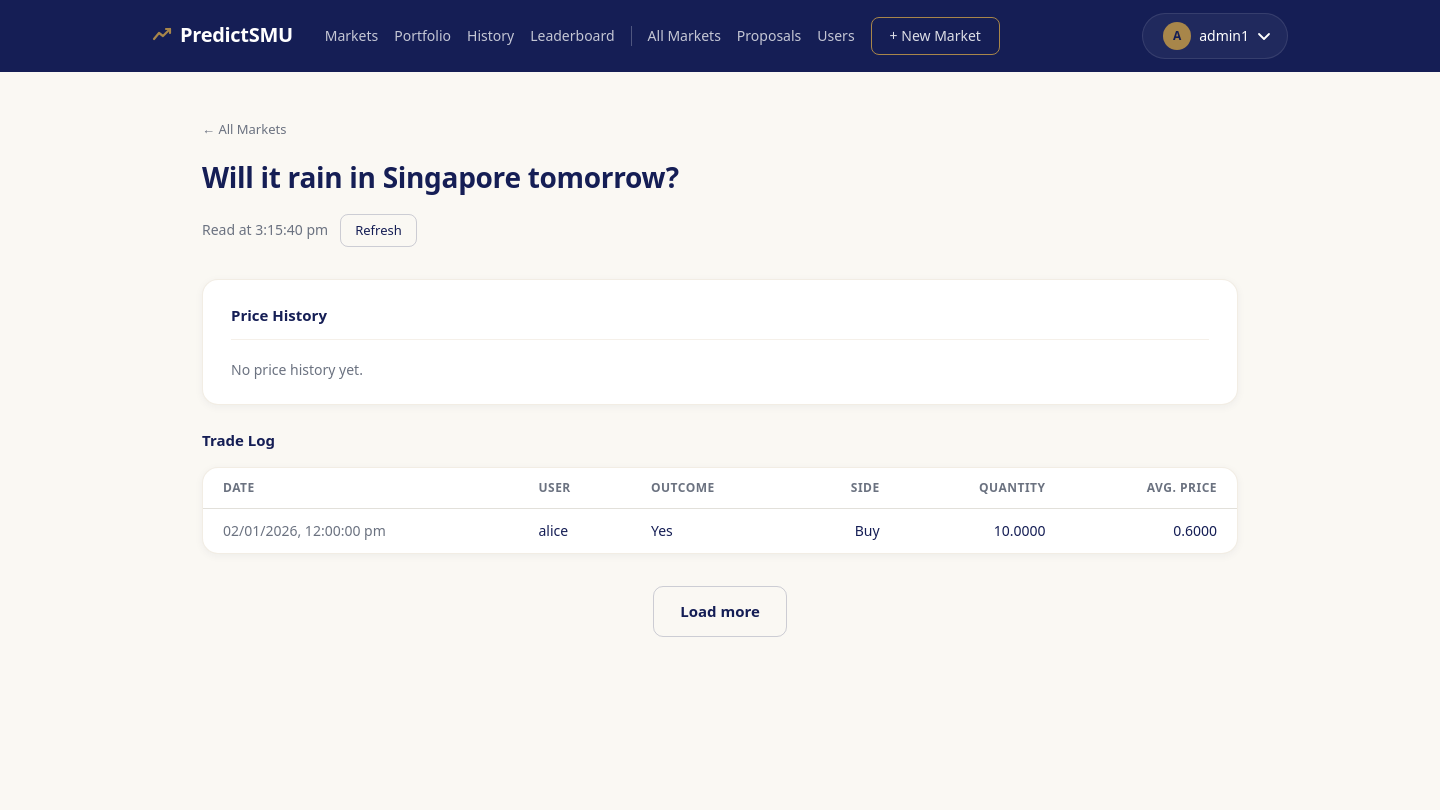
Test: MarketPriceHistoryPage › asks only about the ids the next page of trades adds
This screenshot has width=1440, height=810.
Expected: the link "alice" is shown, [538,521,568,540]
Click the button "Load more" at (720, 611), box [653,586,787,636]
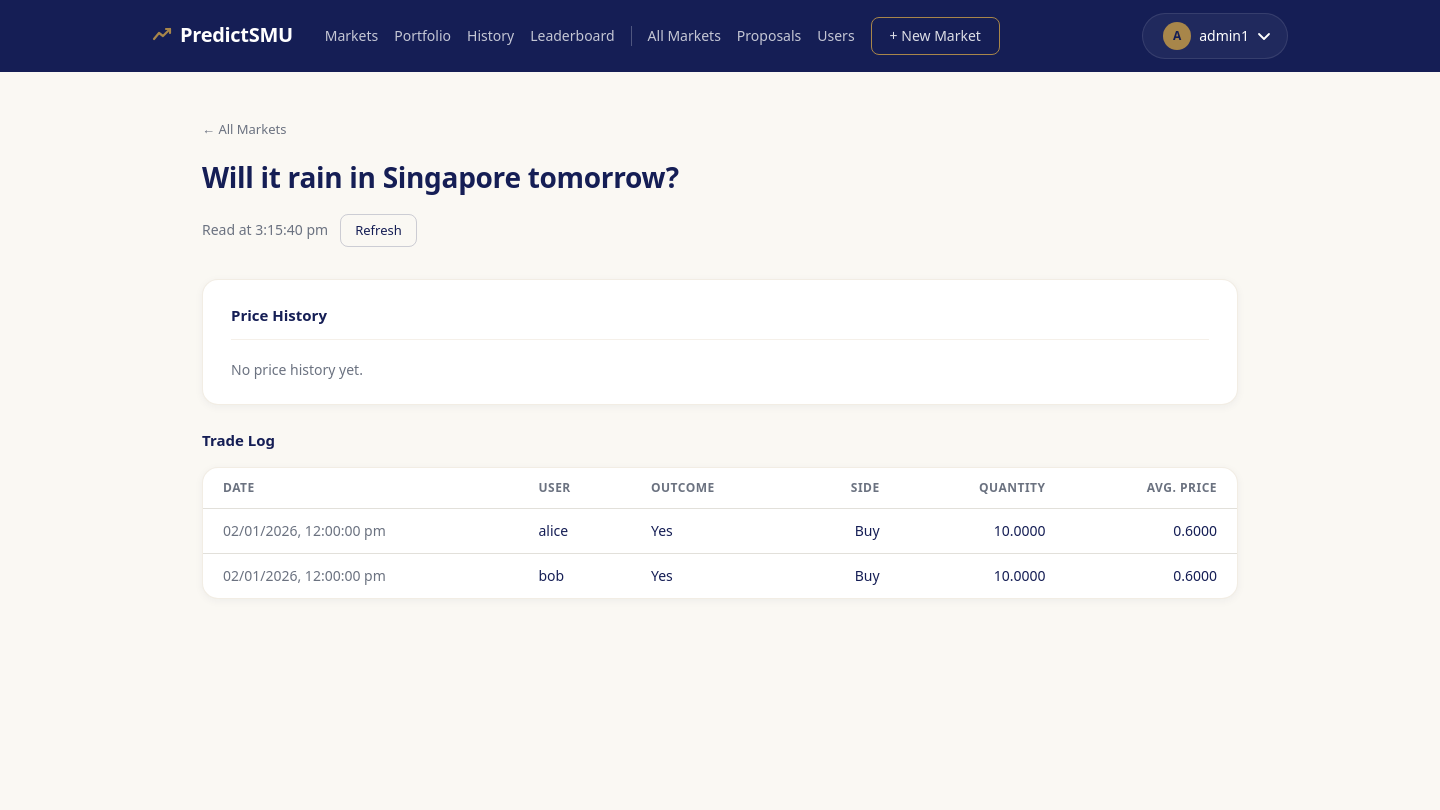
Expected: the link "bob" is shown, [538,566,564,585]
